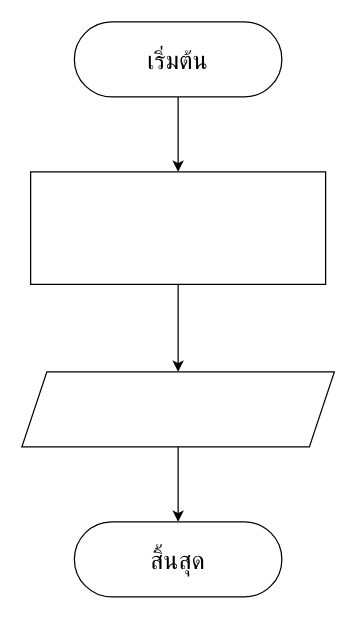
Some shapes in this 356 by 619 pixel diagram are drawn without their labels. Here are the shapes that lost their labels. From the top down, the centre of each, then its label:
(177,227): กำหนดค่า a = 10 b = 20 c = "Haha" d = 'a'
(177,409): แสดงผล 10 20.0 Haha a
